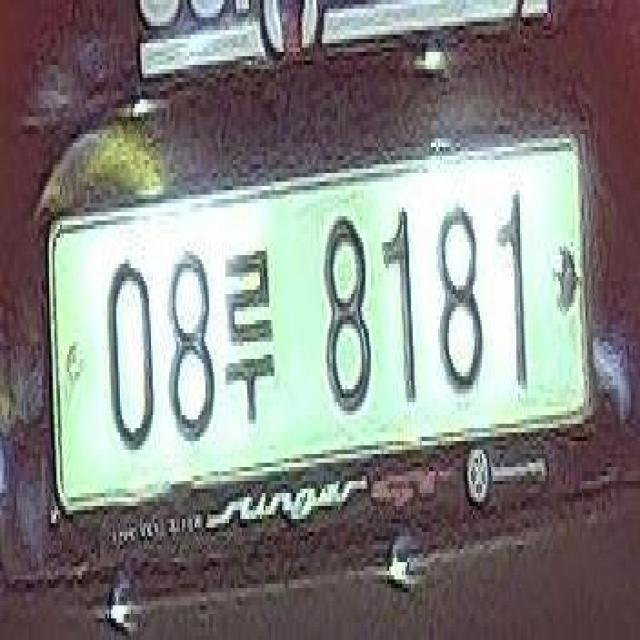illegal_plate: (38, 137, 594, 538)
